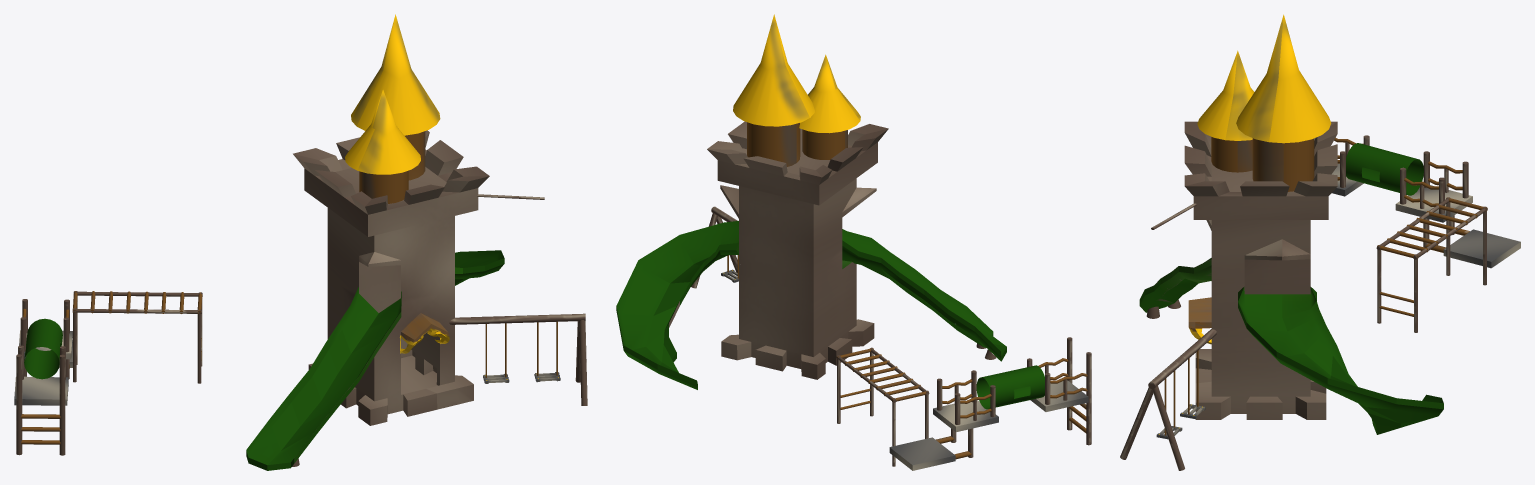
Rendered from I HOUSE - PLAYGROUND.fbx.
3 views of the same model, side by side, from view 1: azimuth 30°, elevation 25°; view 2: azimuth 150°, elevation 25°; view 3: azimuth 270°, elevation 25° (orthographic). The views are drawn at different scales.
Parts seen in each view (by area): view 1: playground, towers, tunnel, Swing; view 2: playground, tunnel, towers, Swing; view 3: playground, towers, tunnel, Swing.
Boxes of the visible parts, <box> form: playground: <box>246,130,544,470</box>; towers: <box>345,14,440,203</box>; tunnel: <box>14,291,202,455</box>; Swing: <box>449,313,587,405</box>; playground: <box>616,121,1006,389</box>; tunnel: <box>836,337,1091,470</box>; towers: <box>733,14,860,166</box>; Swing: <box>691,206,738,288</box>; playground: <box>1139,121,1443,434</box>; towers: <box>1197,14,1331,191</box>; tunnel: <box>1331,135,1520,332</box>; Swing: <box>1120,329,1216,470</box>.
Bounding box in the file's own units: 64.76 × 45.32 × 42.54.
Materials: 1 (1 with a texture image).
